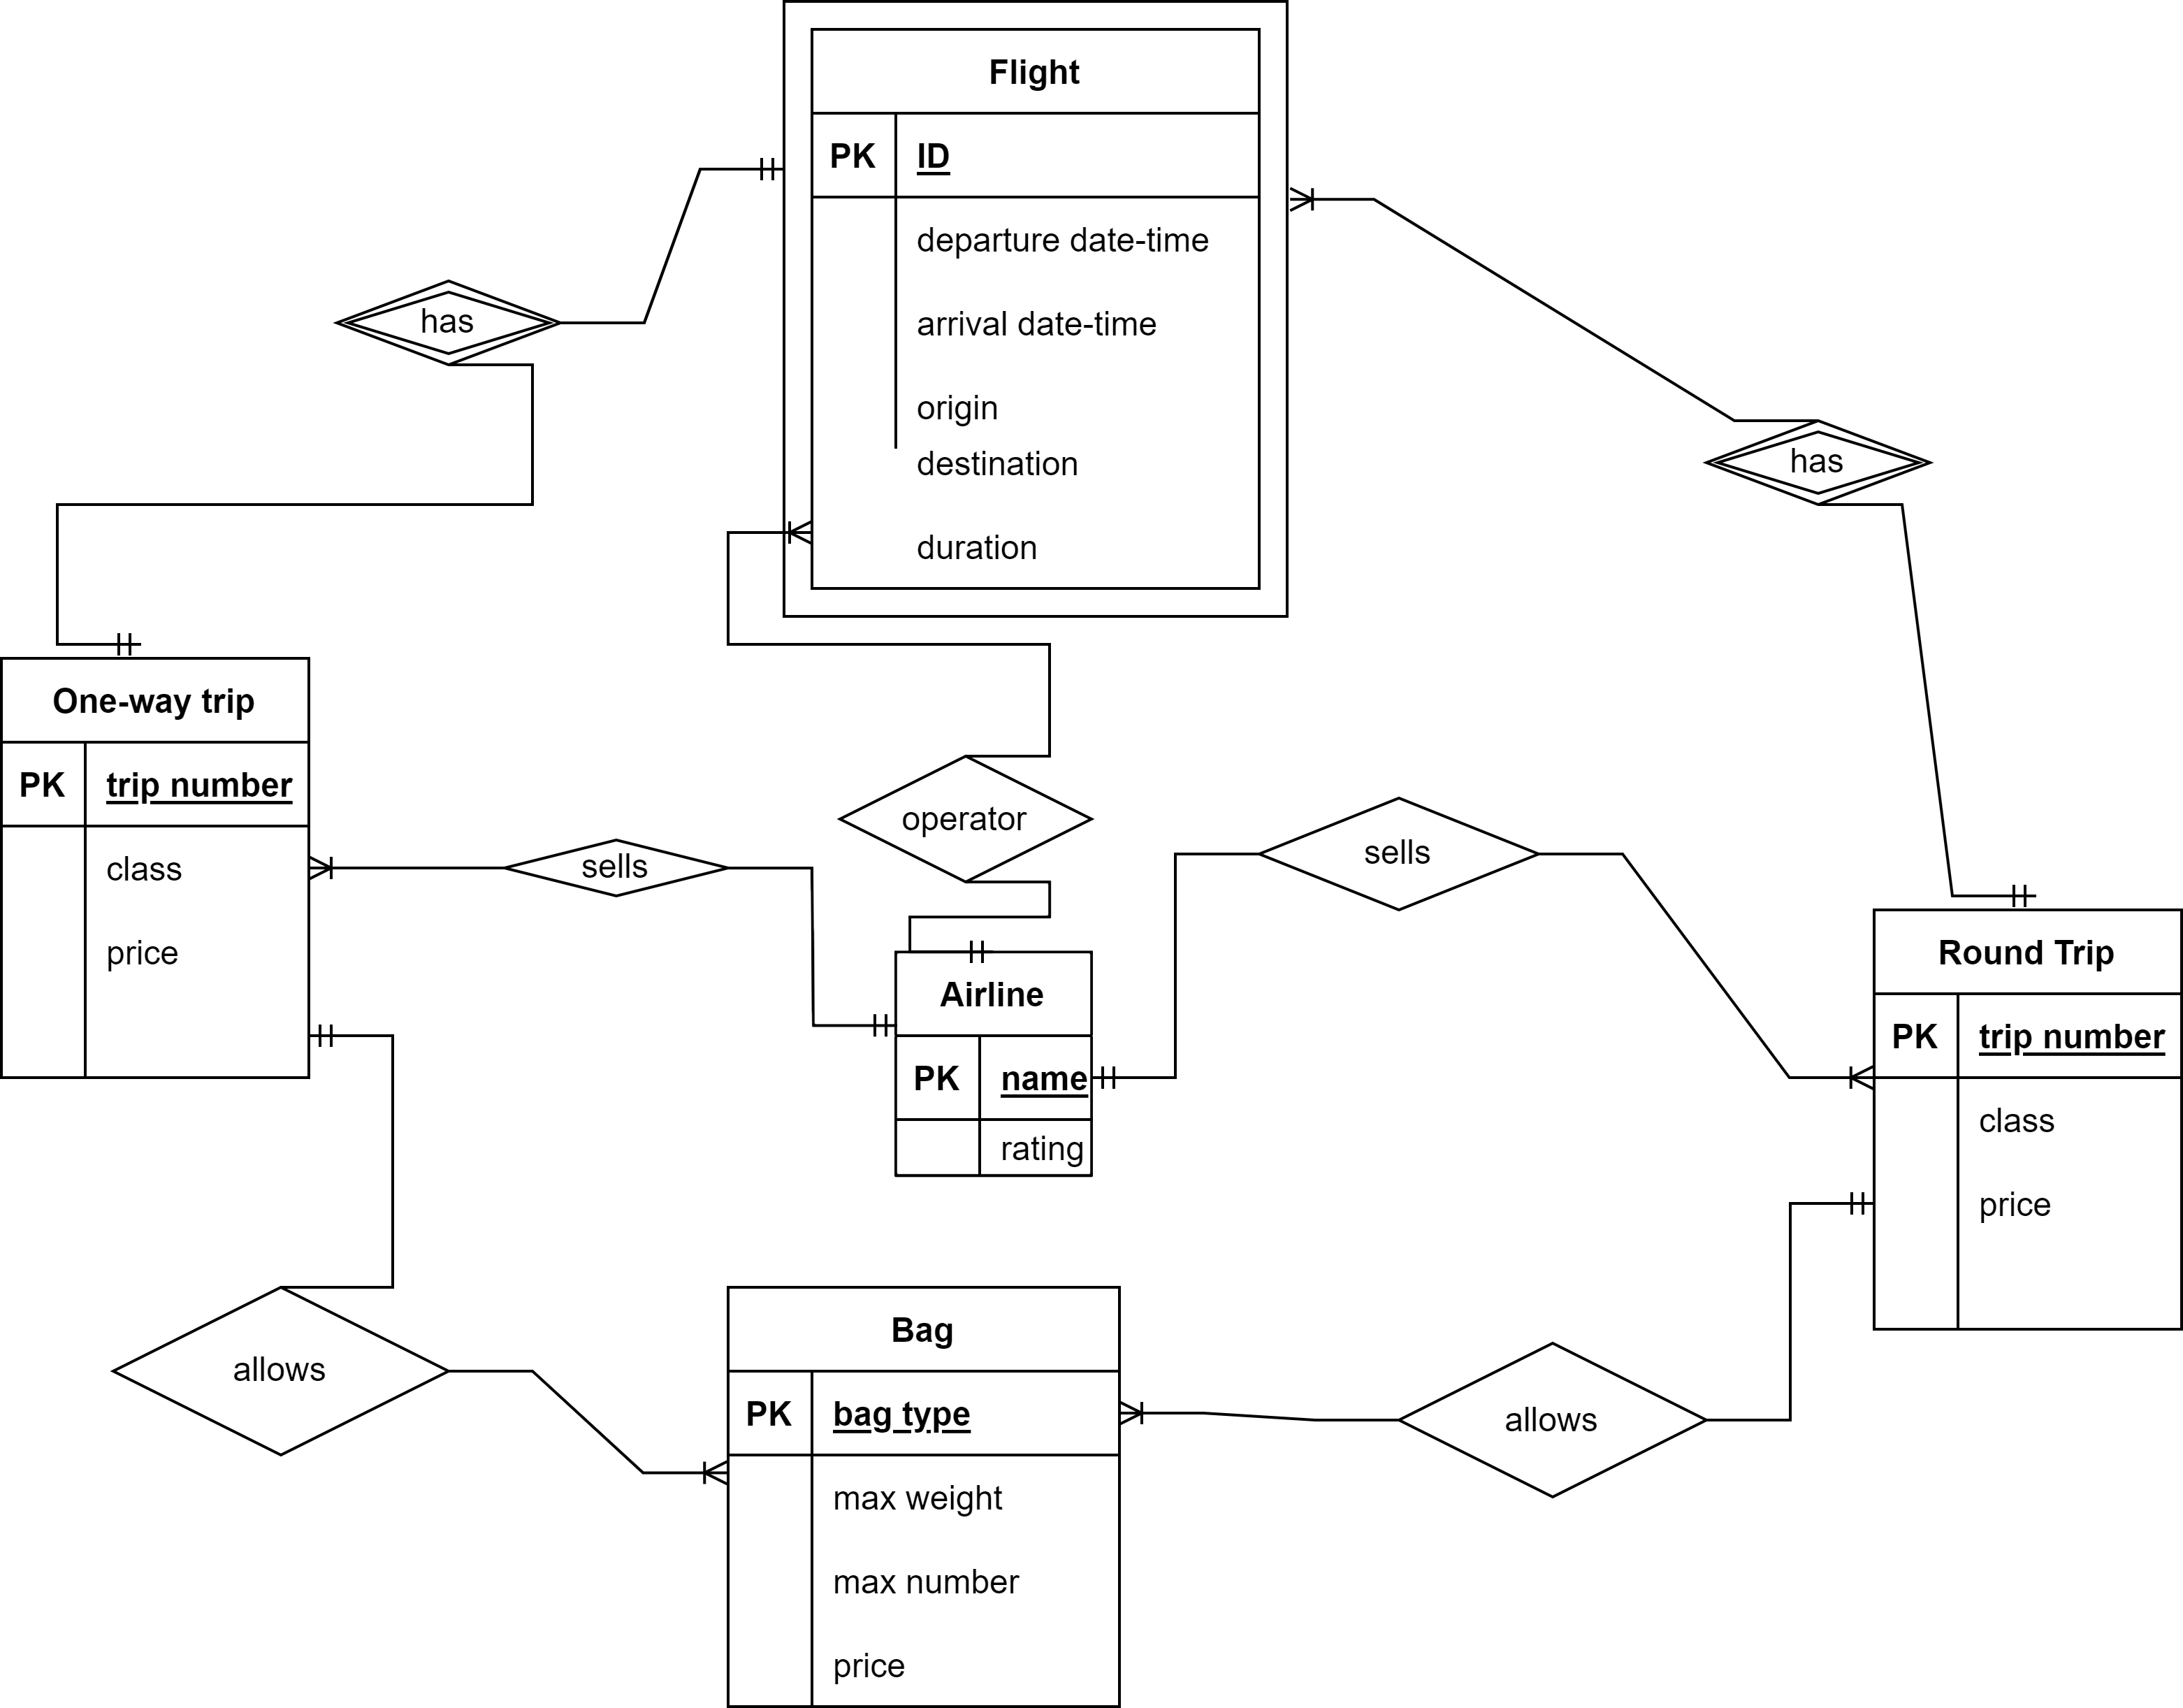entity: (725, 1285, 1122, 1706), (5, 657, 312, 1083), (1875, 909, 2183, 1327), (891, 951, 1093, 1182)
ident_rel: (1703, 418, 1935, 503), (333, 280, 555, 367)
many: (641, 1453, 732, 1495), (728, 512, 812, 558), (1118, 1394, 1207, 1432), (1786, 1063, 1878, 1099), (310, 854, 395, 888), (1290, 188, 1377, 218)
one: (57, 627, 145, 659), (813, 1012, 897, 1042), (909, 939, 994, 967), (703, 156, 787, 182), (1793, 1192, 1875, 1219), (308, 1024, 392, 1049), (1091, 1067, 1175, 1090), (1956, 886, 2034, 909)
rel: (113, 1290, 448, 1456), (1402, 1341, 1701, 1502), (838, 755, 1095, 882), (1260, 797, 1538, 909), (503, 835, 725, 897)
weak_entity: (787, 2, 1292, 618)
